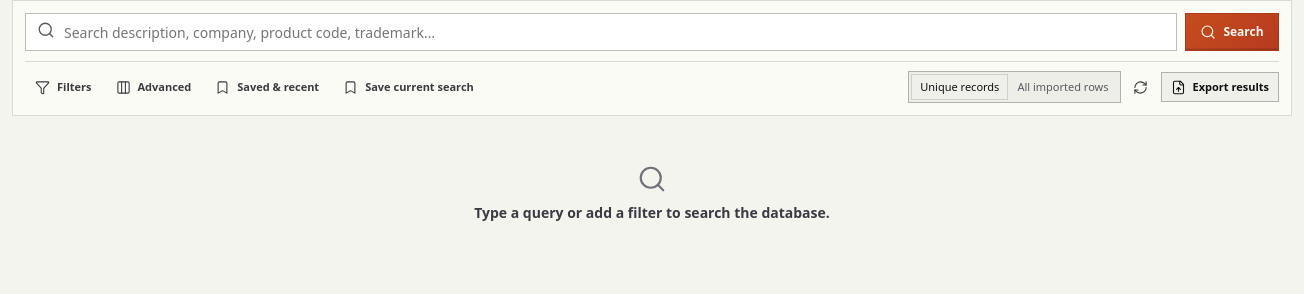
Test: Search request ordering › keeps the newest result when requests finish out of order
Type "first" into the field with placeholder "Search description, company, product code, trademark…". click: (601, 32)
box: [25, 13, 1177, 51]
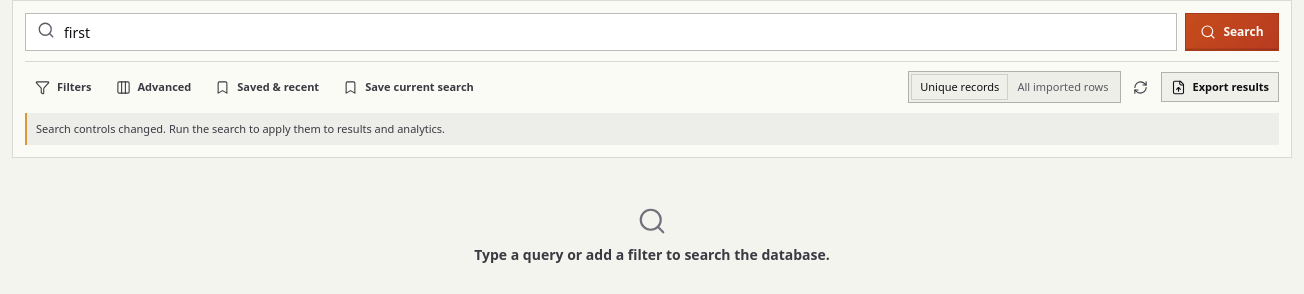
Press Enter in the field with placeholder "Search description, company, product code, trademark…", box [25, 13, 1177, 51]
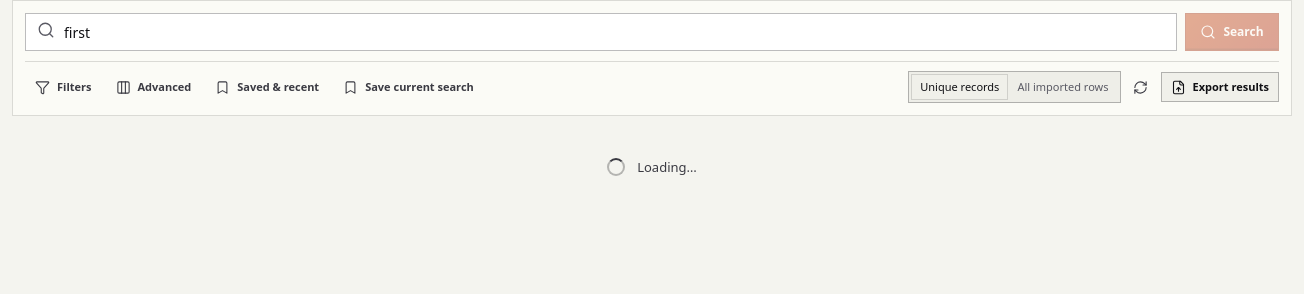
Replace the text in the field with placeholder "Search description, company, product code, trademark…" with "second". click: (601, 32)
box: [25, 13, 1177, 51]
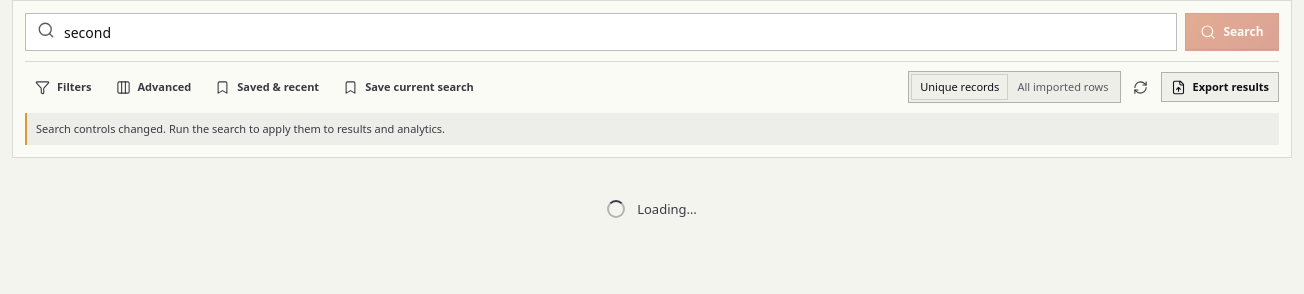
Press Enter in the field with placeholder "Search description, company, product code, trademark…", box [25, 13, 1177, 51]
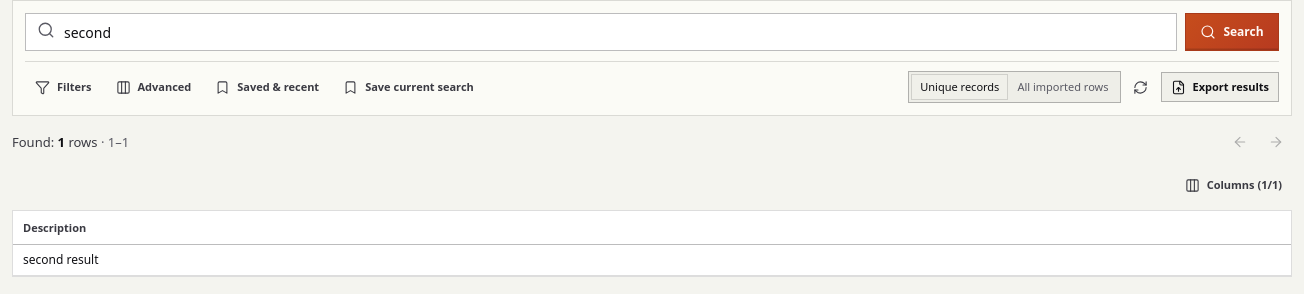
Expected: the text "second result" is shown, [13, 245, 1291, 276]
